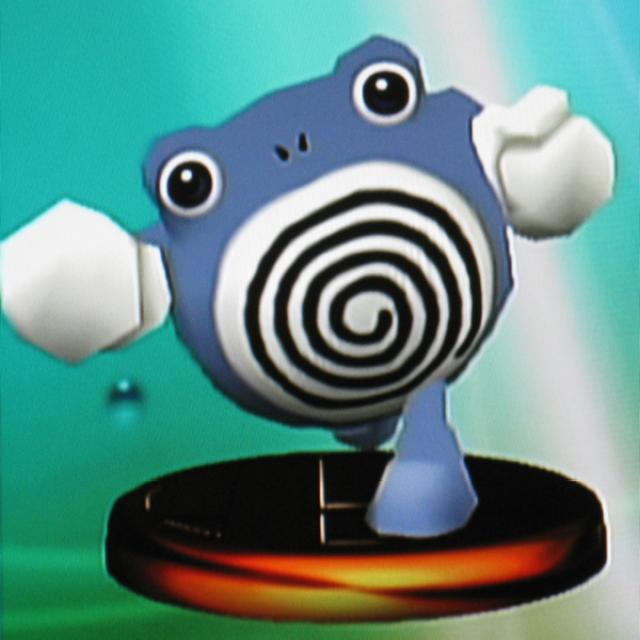Poliwhirl: (66, 48, 615, 484)
